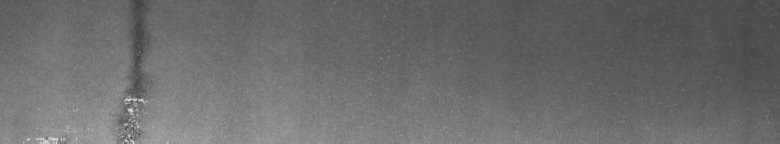hc: (64, 4, 152, 136)
